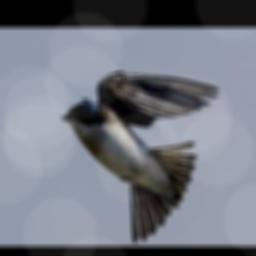Swallow: (61, 72, 219, 242)
